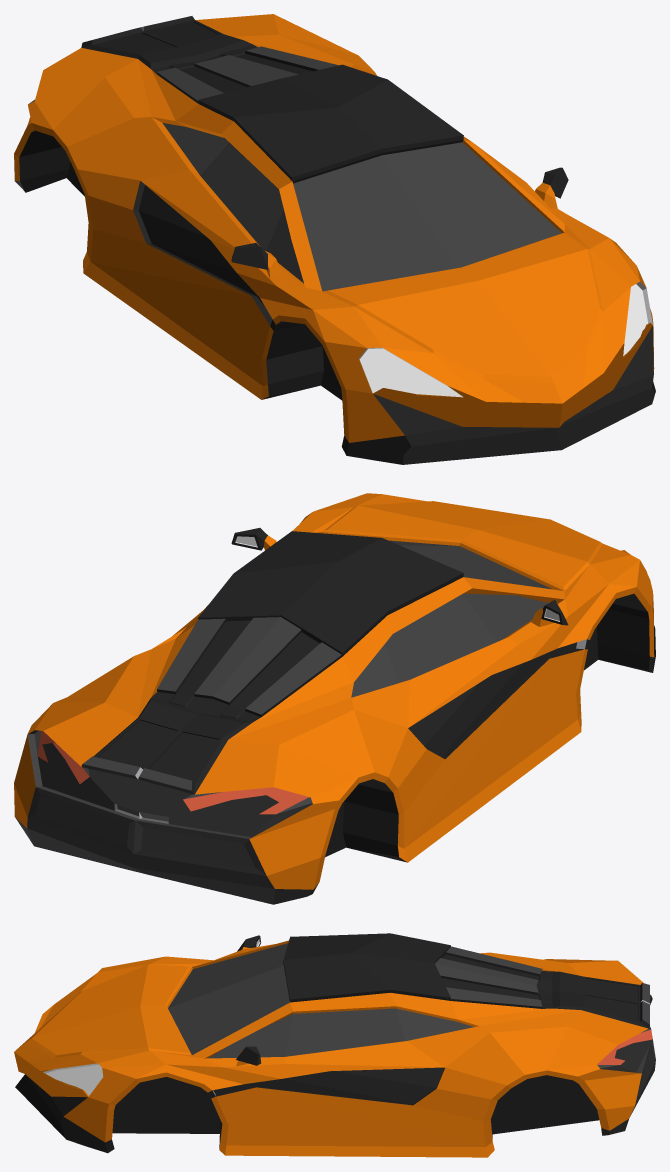
File: mclaren570sbodies.fbx
3 views of the same model, one above another, from view 1: azimuth 30°, elevation 25°; view 2: azimuth 150°, elevation 25°; view 3: azimuth 270°, elevation 25° (orthographic). The views are drawn at different scales.
Visible parts, largest first — view 1: OrangeBody; view 2: OrangeBody; view 3: OrangeBody.
Part boxes in pixels (left/top/right/bottom): OrangeBody: left=14, top=14, right=655, bottom=464; OrangeBody: left=14, top=493, right=655, bottom=904; OrangeBody: left=14, top=933, right=655, bottom=1157.
Bounding box in the file's own units: 2.04 × 4.49 × 1.12.
